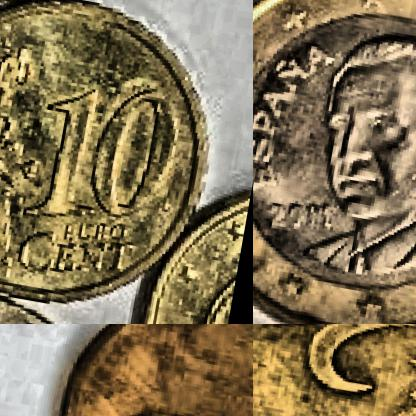coin: (0, 0, 232, 323), (253, 0, 415, 323), (30, 324, 252, 415), (253, 324, 415, 415)
